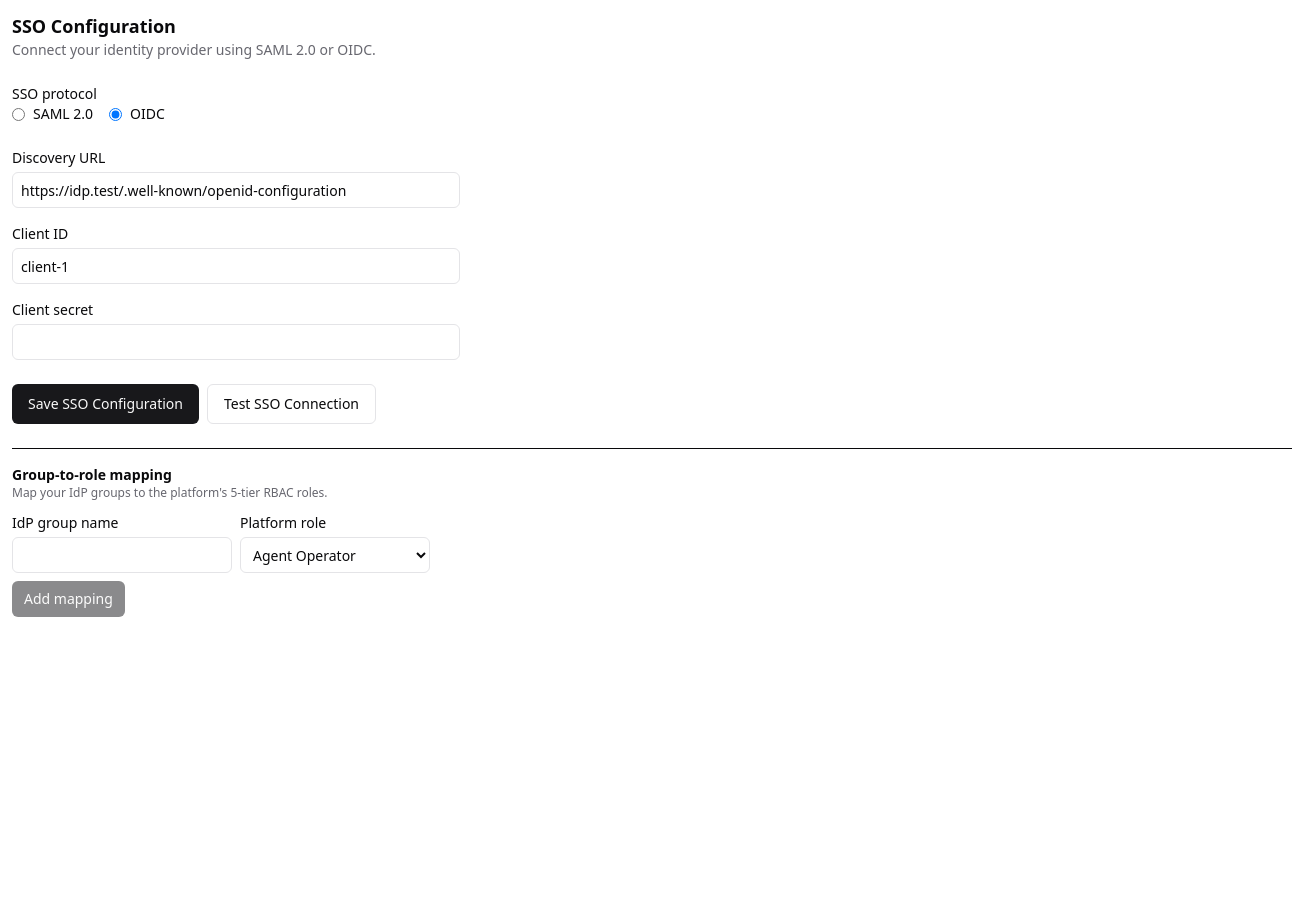
Test case: StepSsoConfiguration — protocol-conditional rendering › Test SSO Connection shows a success banner when every diagnostic passes
Click the button "Test SSO Connection": point(291, 404) [207,384,376,424]
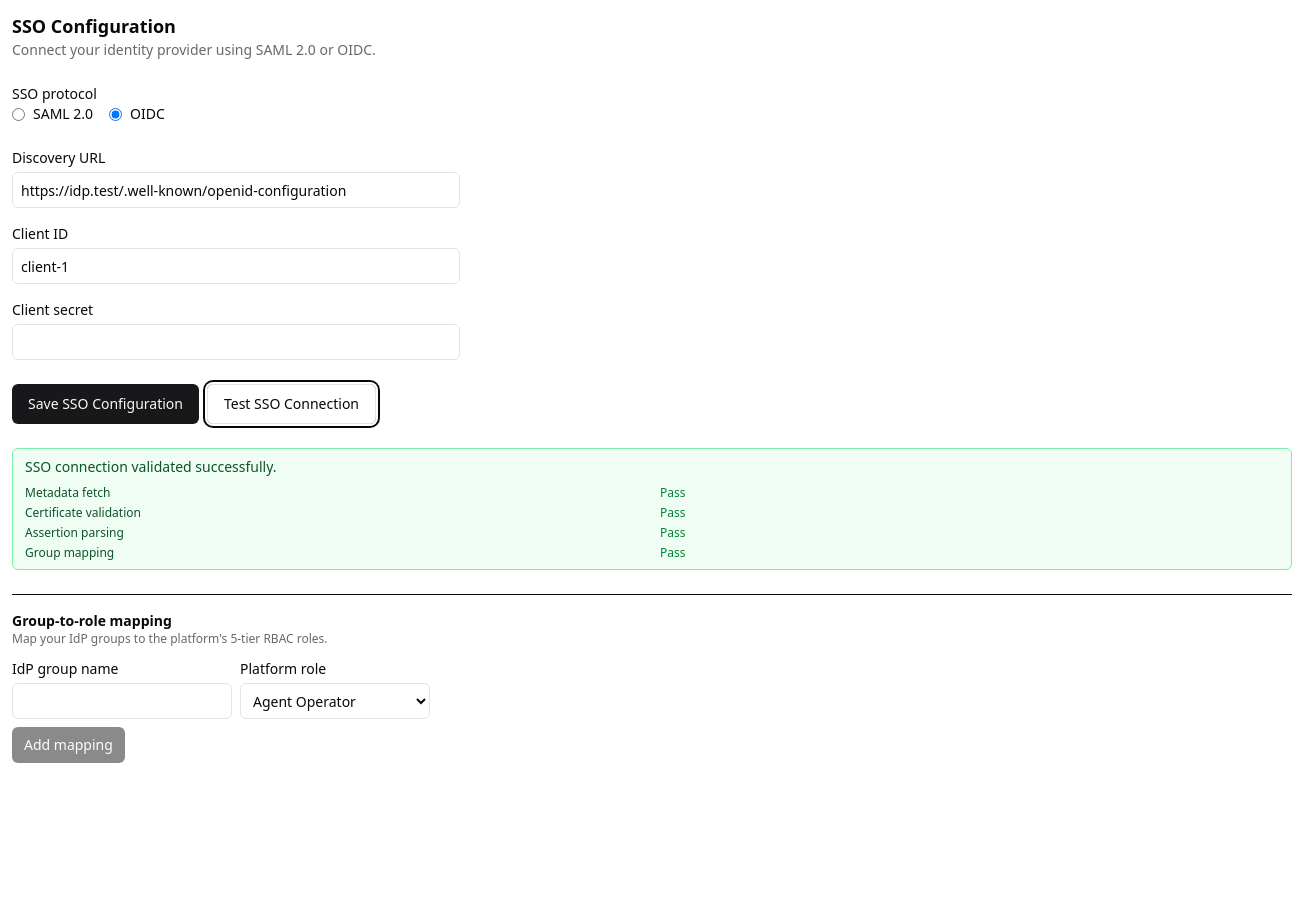
Check: the text "SSO connection validated successfully." is shown, box [25,457,276,476]
